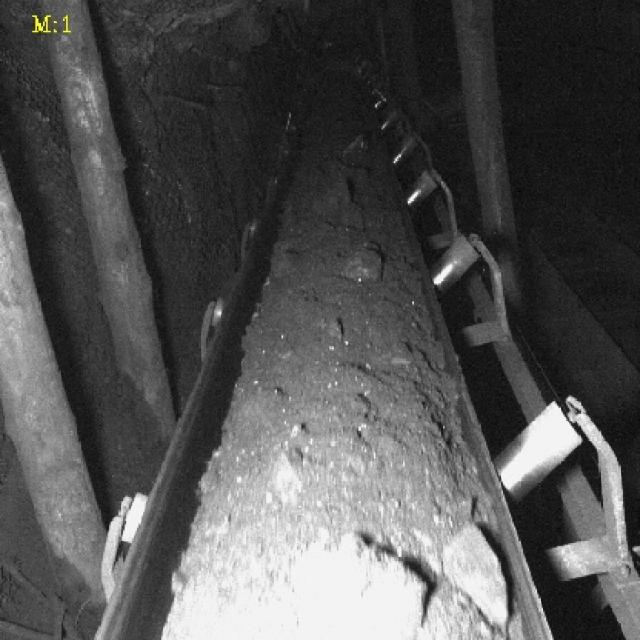large_sized_coal: (290, 534, 432, 638), (440, 518, 511, 624), (338, 244, 384, 278)
